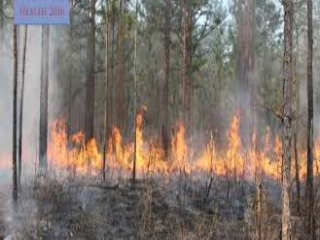fire: (38, 113, 315, 183)
smoke: (3, 22, 58, 179)
